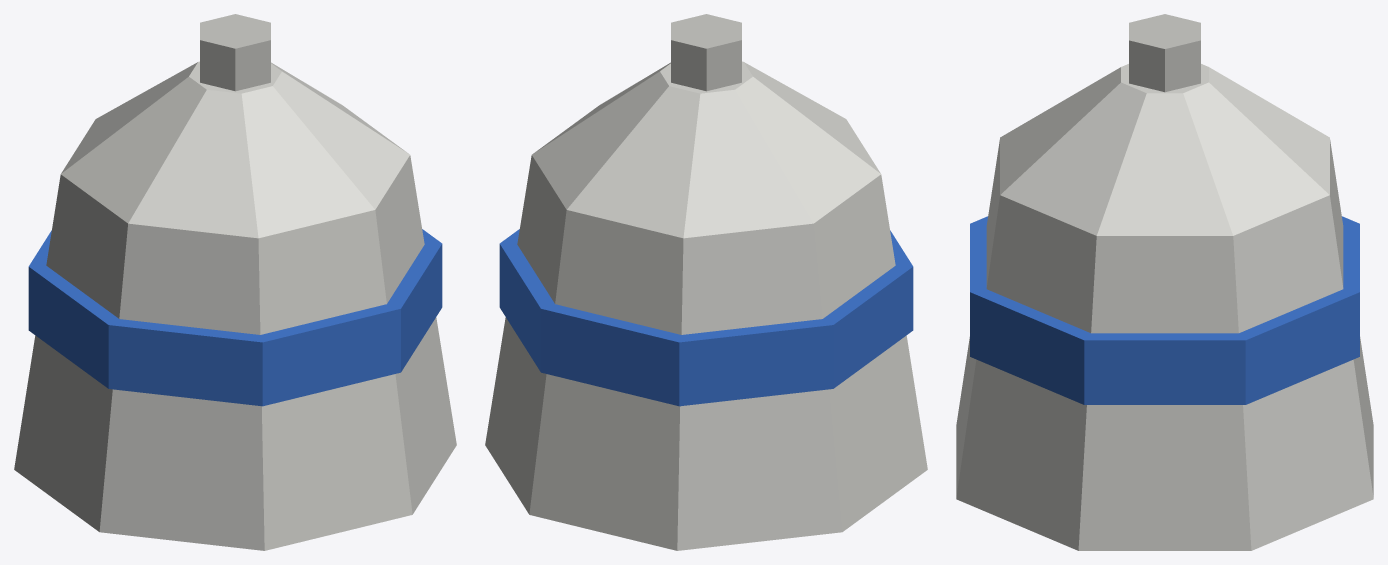
Rendered from item_plastic.glb.
3 renders of one model, left to right at view 1: azimuth 30°, elevation 25°; view 2: azimuth 150°, elevation 25°; view 3: azimuth 270°, elevation 25°, orthographic.
Visible parts, largest first — view 1: item_plastic; view 2: item_plastic; view 3: item_plastic.
Part boxes in pixels (x1=…): item_plastic: x1=14, y1=14, x2=456, y2=550; item_plastic: x1=485, y1=14, x2=927, y2=550; item_plastic: x1=956, y1=14, x2=1373, y2=550.
Bounding box in the file's own units: 0.7022 × 0.8 × 0.7022.
